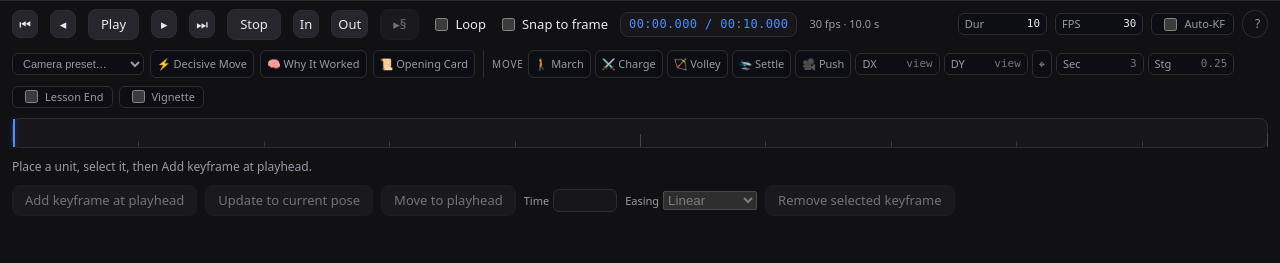
Test: TimelinePanel keyboard transport › shows the keyboard hint row behind the ? toggle
Click the button with test id "hints-toggle": [1255, 24] box [1242,10,1268,38]
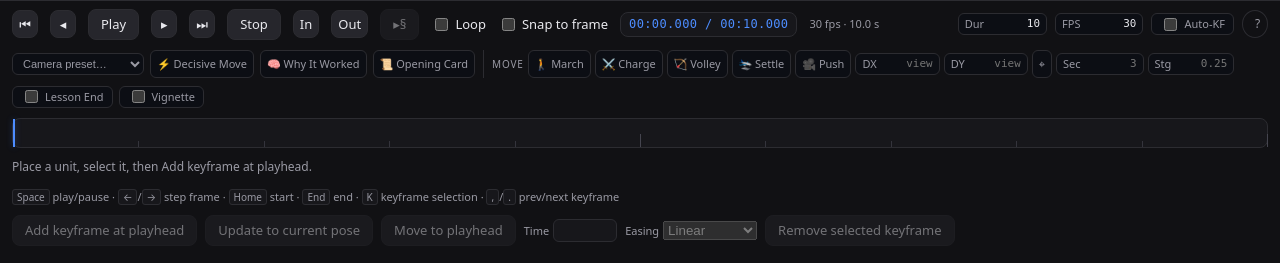
Result: the element with test id "timeline-keyboard-hints" shows "Space" at [17,190,45,204]
Result: the element with test id "timeline-keyboard-hints" shows "step frame" at [161,189,226,204]
Result: the element with test id "timeline-keyboard-hints" shows "Home" at [234,190,262,204]
Note: Toggle closes it again.
Click the button with test id "hints-toggle": [1255, 24] box [1242,10,1268,38]
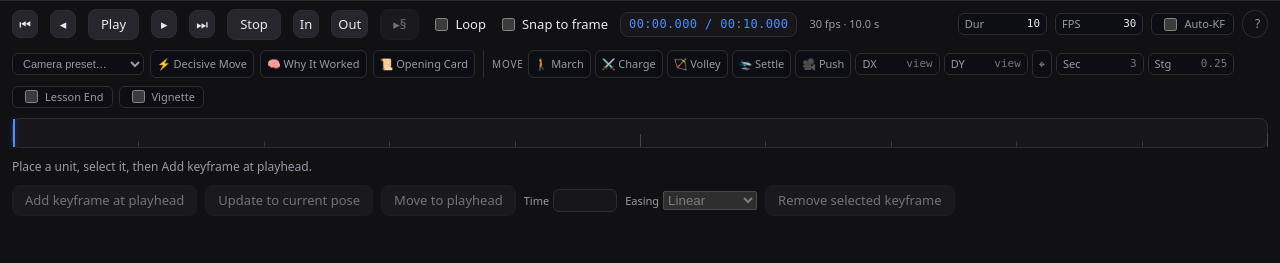
Result: the element with test id "timeline-keyboard-hints" is gone
